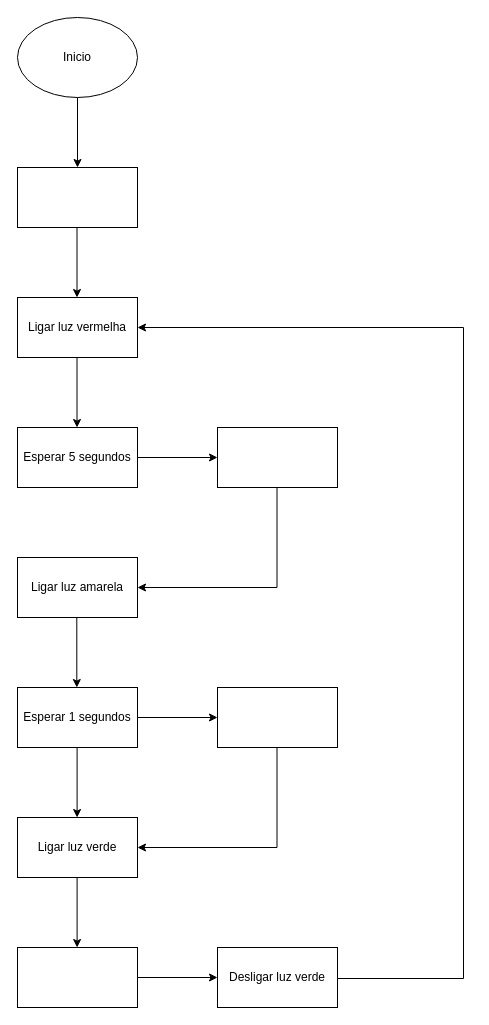
Image size: 489x1025. Some labels were removed from this diagram. Each missing label, with the centre of its shape:
"Desligar luz amarela" goes at [277,717].
"Desligar luz vermelha" goes at [277,457].
"Esperar 4 segundos" goes at [77,977].
"Luz vermelha saída 4, luz amarela saída 6 e luz verde saída 8" goes at [77,197].
